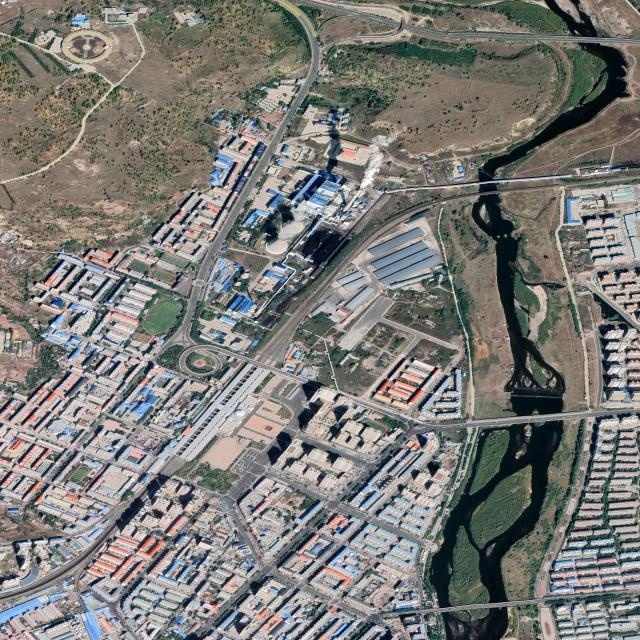coal_fired_power_plant: (206, 163, 366, 319)
